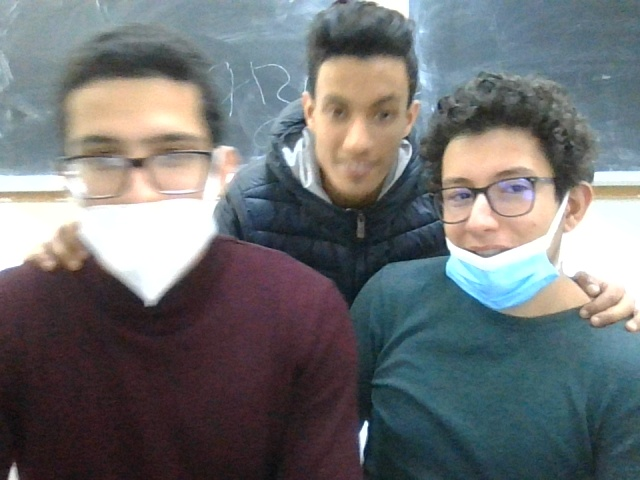mask_weared_incorrect: (419, 83, 581, 309)
